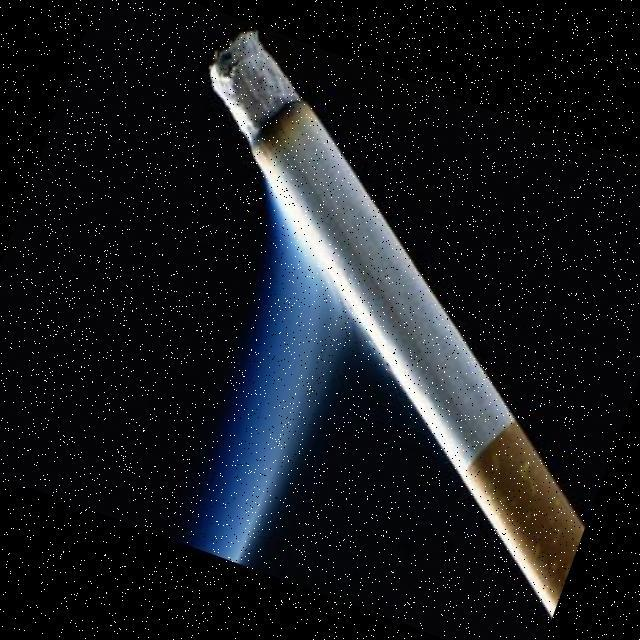cigarette: (62, 16, 640, 624)
